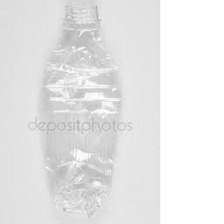bottle: (30, 0, 130, 222)
